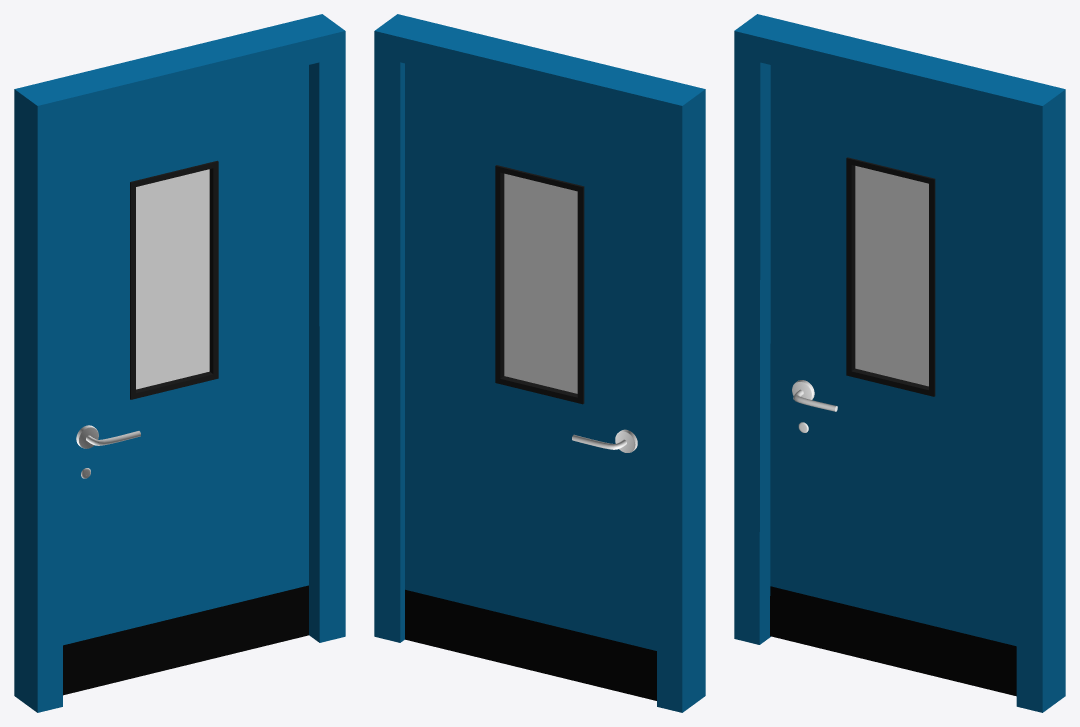
The model's file is Door.fbx.
The picture shows the model from 3 angles, left to right: view 1: azimuth 30°, elevation 25°; view 2: azimuth 150°, elevation 25°; view 3: azimuth 330°, elevation 25°; orthographic projection.
Parts seen in each view (by area): view 1: Door, door frame; view 2: Door, door frame; view 3: Door, door frame.
Part boxes in pixels (left/top/right/bottom): Door: left=63, top=65, right=308, bottom=695; door frame: left=14, top=14, right=345, bottom=712; Door: left=405, top=63, right=656, bottom=700; door frame: left=374, top=14, right=705, bottom=712; Door: left=770, top=65, right=1016, bottom=696; door frame: left=734, top=14, right=1065, bottom=712.
Size of the model in its own units: 117 by 221 by 21.4.
Materials: 3 (1 with a texture image).
